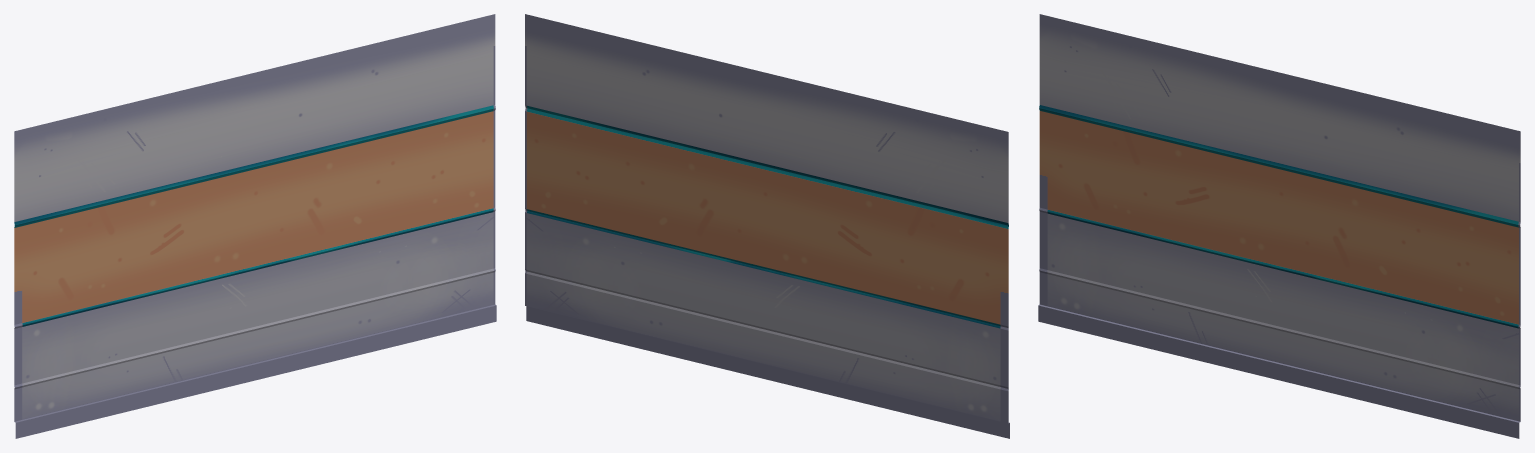
Rendered from ParedeFrente.fbx.
3 renders of one model, left to right at view 1: azimuth 30°, elevation 25°; view 2: azimuth 150°, elevation 25°; view 3: azimuth 330°, elevation 25°, orthographic.
Parts seen in each view (by area): view 1: Parede Frente; view 2: Parede Frente; view 3: Parede Frente.
Boxes of the visible parts, left/top/right/bottom form: Parede Frente: left=14, top=14, right=496, bottom=438; Parede Frente: left=525, top=14, right=1009, bottom=438; Parede Frente: left=1038, top=14, right=1520, bottom=438.
Size of the model in its own units: 1560 by 950 by 8.
1 material, 1 textured.
